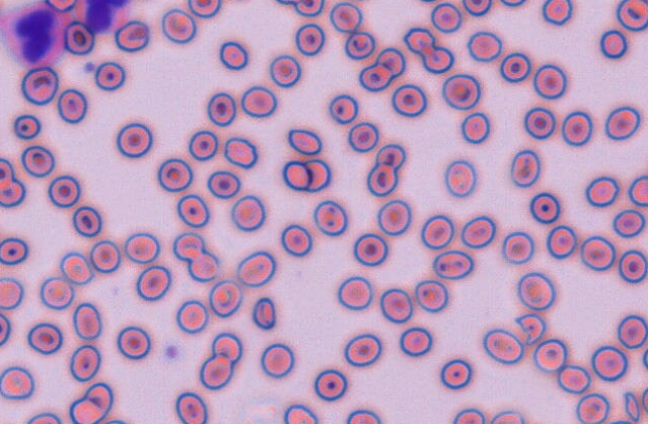GRAN: (0, 0, 67, 69), (75, 0, 130, 34)
PLT: (165, 343, 180, 360)
RBC: (68, 382, 113, 423), (516, 271, 555, 310), (482, 328, 524, 364), (20, 66, 58, 105), (441, 73, 480, 110), (236, 250, 275, 286), (591, 345, 627, 381), (135, 265, 171, 301), (208, 279, 242, 317), (343, 333, 381, 367), (337, 275, 373, 310), (580, 235, 615, 271), (157, 157, 193, 192), (604, 105, 640, 140), (116, 122, 152, 157), (313, 199, 347, 236), (231, 194, 265, 231), (432, 249, 473, 279), (161, 8, 196, 43), (391, 83, 427, 117), (377, 199, 411, 235), (260, 342, 294, 378), (379, 287, 413, 323), (444, 159, 476, 197), (420, 214, 454, 249), (353, 232, 388, 266), (199, 354, 232, 390), (460, 215, 496, 248), (533, 63, 566, 99), (69, 344, 101, 381), (240, 85, 277, 117), (0, 365, 34, 399), (533, 338, 567, 372), (116, 325, 150, 359), (39, 276, 74, 309), (510, 149, 540, 187), (59, 251, 93, 284), (175, 299, 208, 333), (414, 279, 448, 312), (313, 368, 347, 401), (176, 193, 209, 227), (467, 30, 502, 62), (27, 322, 62, 354), (114, 20, 149, 52), (124, 232, 160, 263), (561, 110, 592, 146), (72, 302, 102, 339), (47, 174, 80, 207), (501, 231, 534, 264), (20, 145, 54, 177), (585, 175, 619, 207), (63, 20, 94, 55), (616, 314, 647, 349), (546, 224, 577, 259), (280, 223, 312, 256), (439, 357, 472, 389), (269, 54, 301, 87), (523, 106, 555, 139), (366, 162, 397, 196), (575, 392, 609, 423), (89, 239, 120, 273), (57, 88, 87, 123), (206, 91, 236, 126), (175, 391, 207, 423), (329, 1, 362, 32), (557, 364, 591, 394), (211, 332, 242, 364), (347, 121, 379, 152), (294, 23, 325, 55), (529, 191, 560, 223), (399, 326, 432, 356), (618, 249, 647, 283), (616, 0, 647, 31), (187, 251, 219, 281), (172, 231, 204, 261), (72, 205, 102, 237), (460, 111, 490, 143), (499, 52, 531, 82), (612, 208, 645, 237), (358, 63, 392, 91), (206, 170, 240, 198), (287, 128, 322, 155), (430, 2, 461, 32), (328, 93, 358, 124), (188, 129, 218, 160), (421, 45, 454, 73), (344, 30, 375, 59), (94, 61, 125, 90), (304, 158, 331, 191), (375, 47, 405, 76), (219, 40, 248, 70), (282, 160, 310, 190), (599, 29, 627, 58), (0, 237, 28, 265), (375, 143, 405, 169), (0, 276, 23, 309), (0, 177, 25, 207), (542, 0, 572, 25), (13, 113, 41, 139), (283, 403, 318, 423), (187, 0, 221, 18), (628, 174, 647, 206), (451, 407, 485, 423), (346, 408, 381, 423), (294, 0, 324, 16), (461, 0, 491, 16), (0, 157, 14, 190), (490, 410, 524, 423), (26, 412, 61, 423), (44, 0, 76, 12), (0, 312, 10, 346), (641, 386, 648, 414), (498, 0, 526, 7), (642, 347, 648, 369), (274, 0, 299, 5), (417, 0, 441, 3)
Schistocyte: (516, 312, 545, 348), (225, 138, 257, 170), (251, 297, 278, 331), (403, 28, 434, 53), (622, 392, 641, 422)
